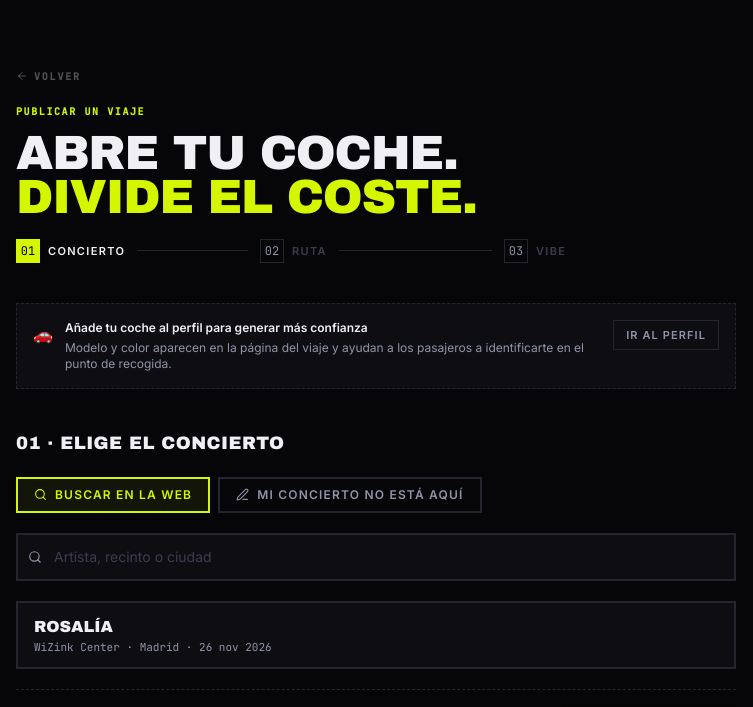
Test: PublishRidePage — step 1 (concert select) › disables continue button until a concert is selected
Expected: the text "Rosalía" is shown, top-left (34, 618), bottom-right (113, 635)
Click the button "Rosalía WiZink Center · Madrid · 26 nov 2026".
click(73, 626)  # box top-left (16, 601), bottom-right (736, 669)
(page scrolled)
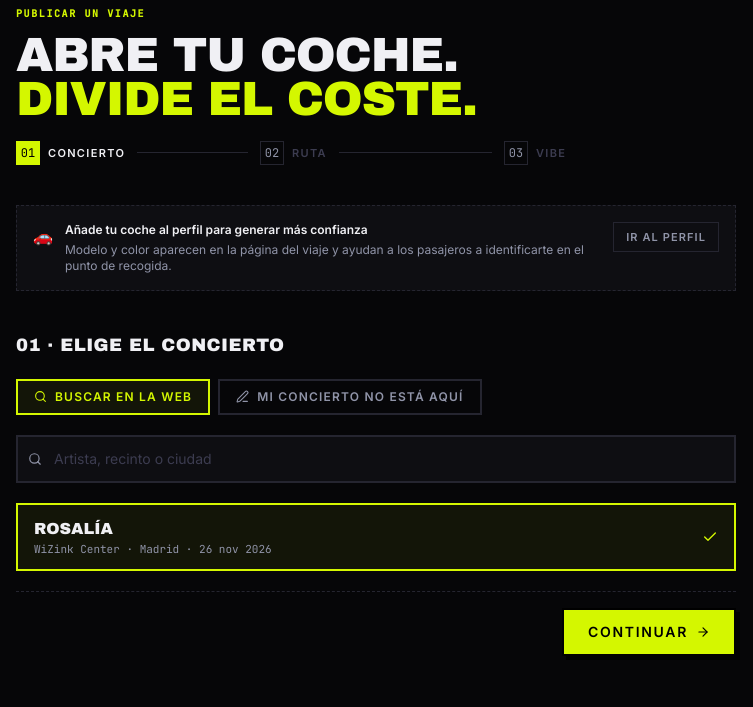
Expected: the button "Continuar" is enabled, top-left (562, 608), bottom-right (736, 656)
